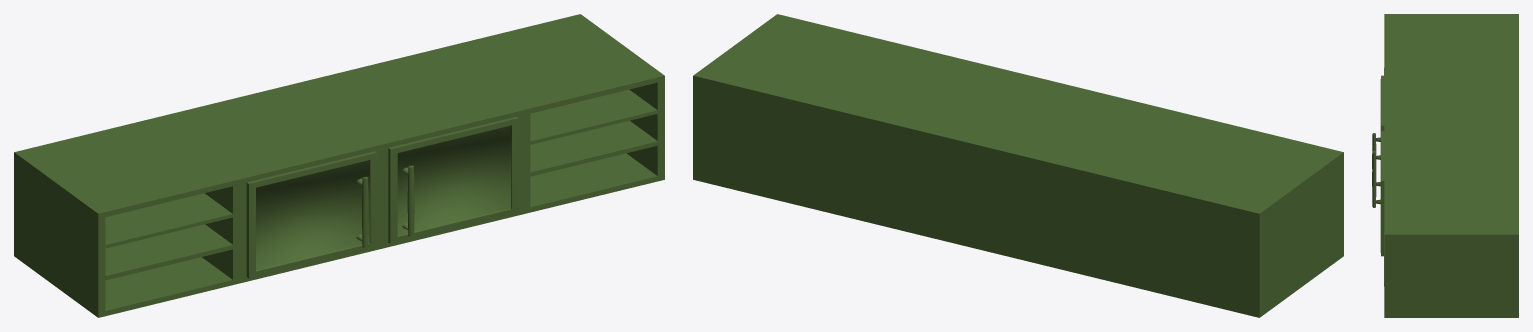
File: armarios.fbx
3 views of the same model, side by side, from view 1: azimuth 30°, elevation 25°; view 2: azimuth 150°, elevation 25°; view 3: azimuth 270°, elevation 25° (orthographic). The views are drawn at different scales.
Parts seen in each view (by area): view 1: Armários; view 2: Armários; view 3: Armários.
Part boxes in pixels (<box>): Armários: <box>14,14,664,317</box>; Armários: <box>693,14,1343,317</box>; Armários: <box>1372,14,1518,317</box>.
Bounding box in the file's own units: 854 × 150 × 240.
